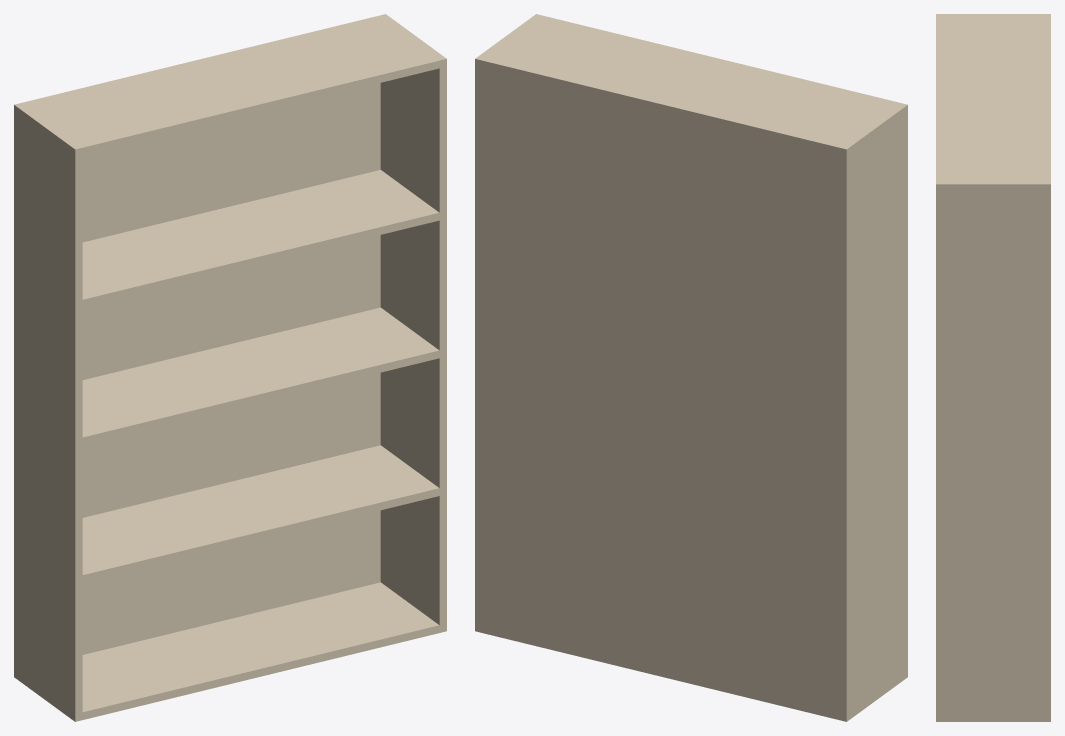
The picture shows the model from 3 angles, left to right: view 1: azimuth 30°, elevation 25°; view 2: azimuth 150°, elevation 25°; view 3: azimuth 270°, elevation 25°; orthographic projection. The views are drawn at different scales.
Parts seen in each view (by area): view 1: Body; view 2: Body; view 3: Body.
Boxes of the visible parts, x1,y1,x2,y2 form: Body: (14,14,446,721); Body: (475,14,907,721); Body: (936,14,1050,721).
Bounding box in the file's own units: 0.596 × 0.877 × 0.17.
